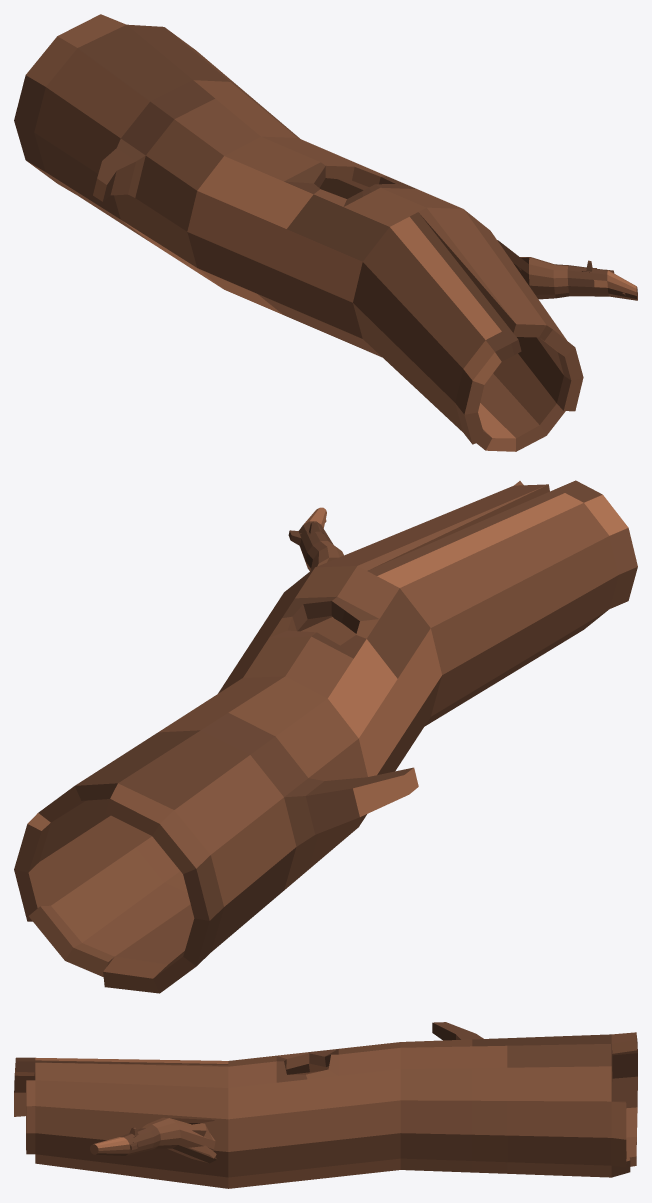
Rendered from log.fbx.
3 views of the same model, one above another, from view 1: azimuth 30°, elevation 25°; view 2: azimuth 150°, elevation 25°; view 3: azimuth 270°, elevation 25° (orthographic). The views are drawn at different scales.
Parts seen in each view (by area): view 1: Circle; view 2: Circle; view 3: Circle.
Boxes of the visible parts, box(x1,y1,x2,y2) form: Circle: box(14, 14, 637, 451); Circle: box(14, 480, 637, 993); Circle: box(14, 1022, 637, 1188).
Size of the model in its own units: 426 by 215 by 972.
